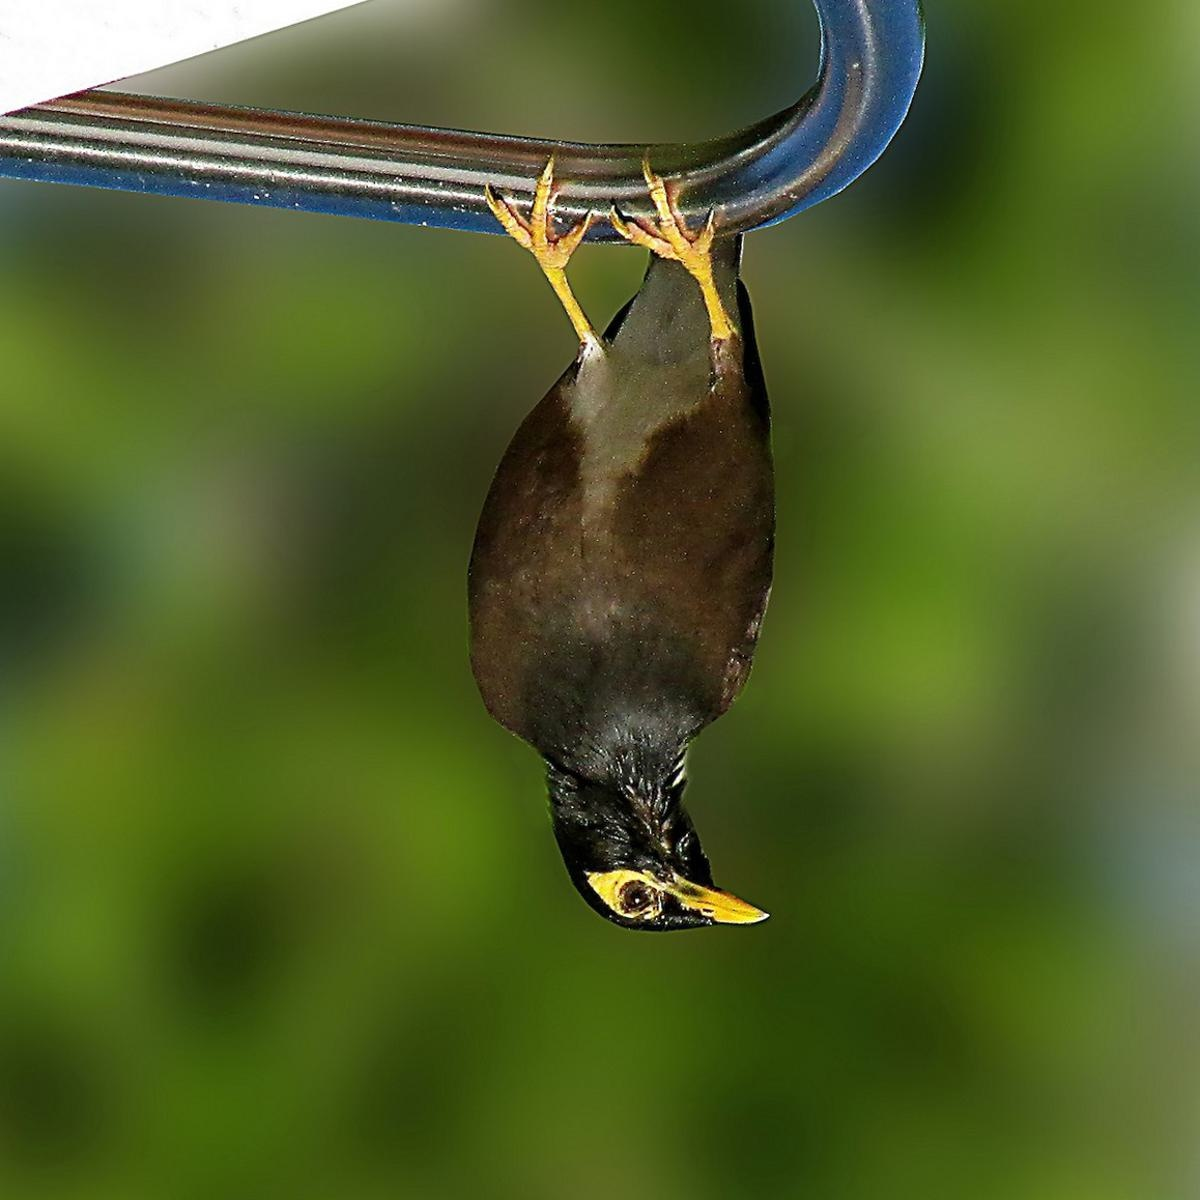myna: (477, 180, 809, 999)
